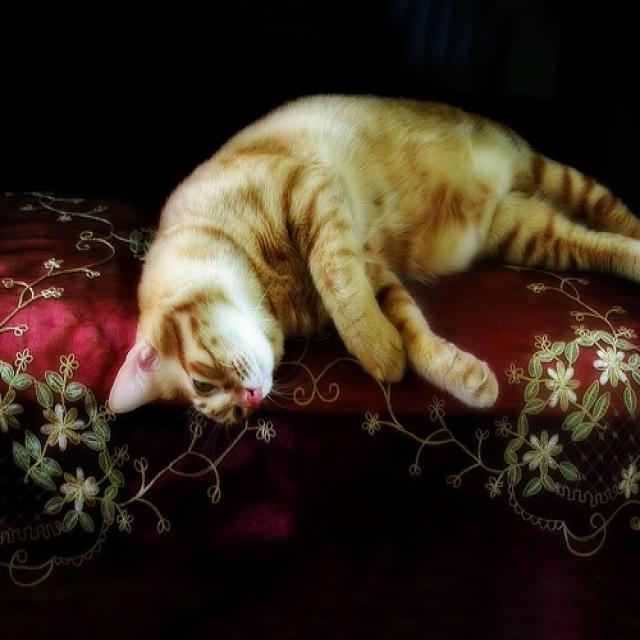cat: (101, 87, 640, 434)
